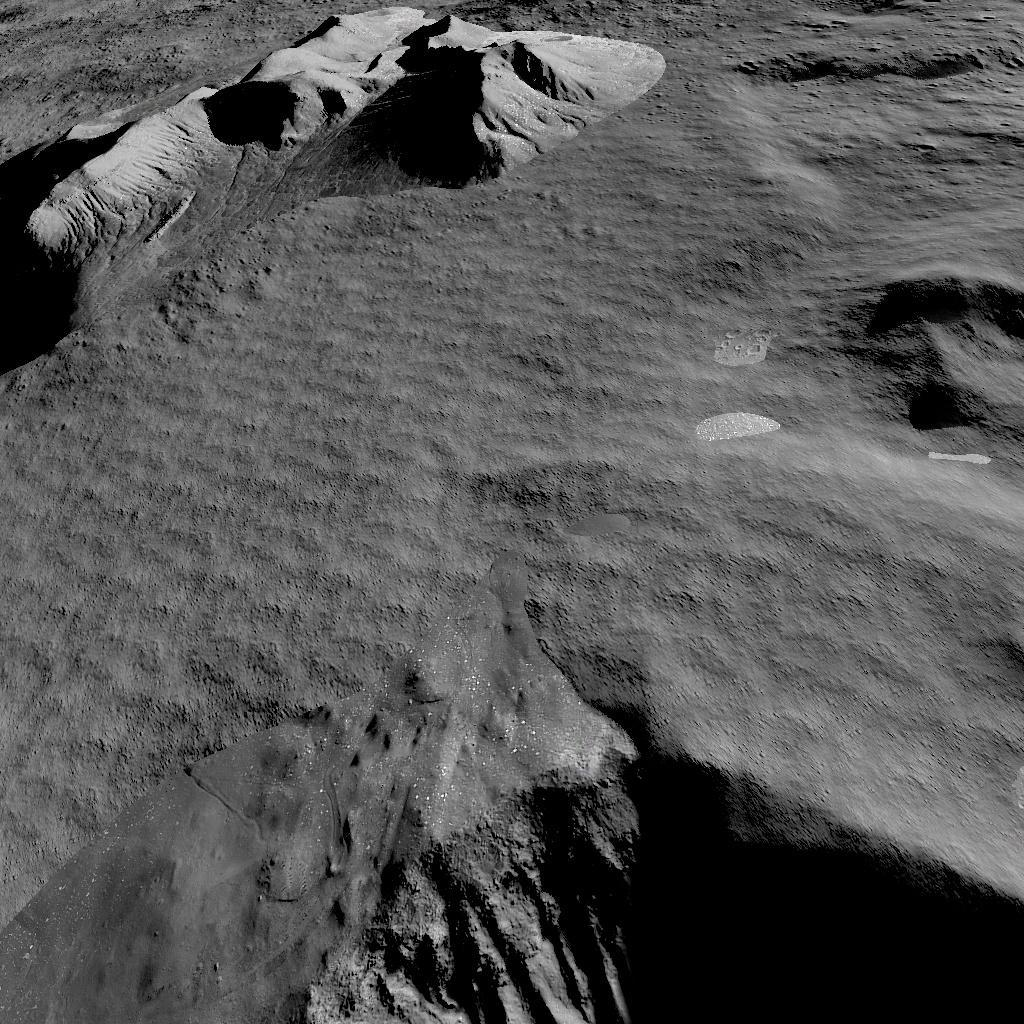Boulders: (1, 0, 667, 368)
Crater: (3, 621, 1024, 1024), (827, 242, 1024, 460), (726, 22, 988, 120)
Plan surface: (0, 402, 804, 590)
